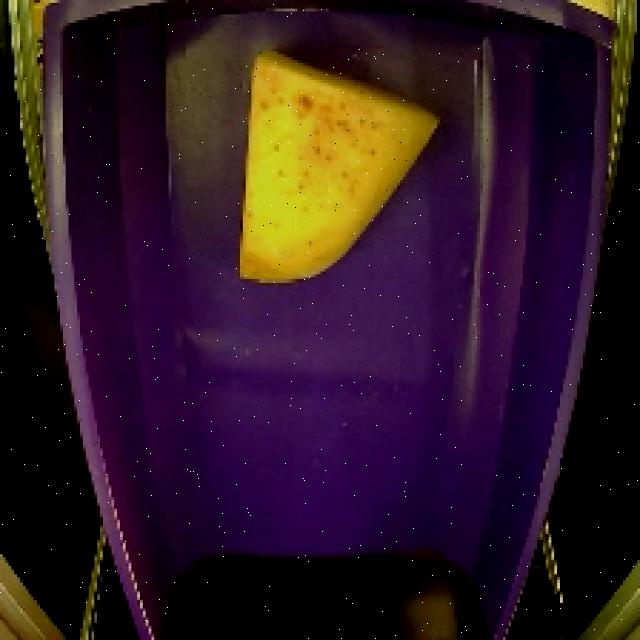potato: (228, 46, 453, 298)
